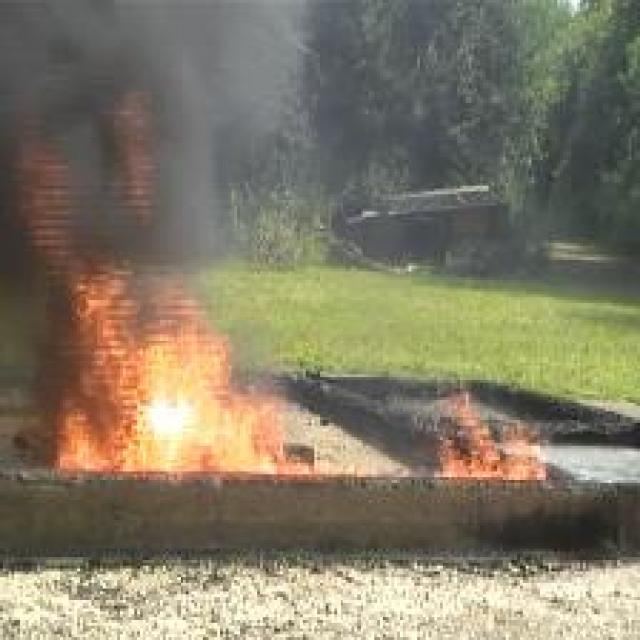Fire: (7, 90, 364, 476), (432, 374, 548, 480)
